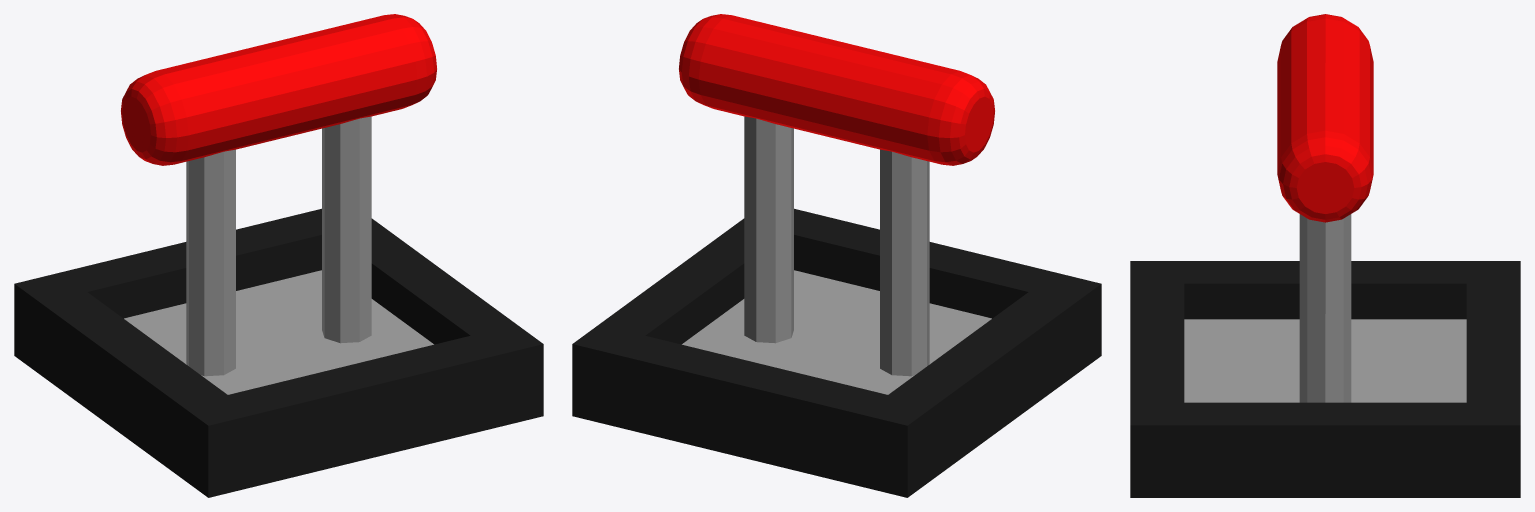
The model's file is bigSwitch.fbx.
3 renders of one model, left to right at view 1: azimuth 30°, elevation 25°; view 2: azimuth 150°, elevation 25°; view 3: azimuth 270°, elevation 25°, orthographic.
Visible parts, largest first — view 1: BaseStation, Cylinder, Handle; view 2: BaseStation, Cylinder, Handle; view 3: BaseStation, Cylinder, Handle.
Boxes of the visible parts, <box> form: BaseStation: <box>14,208,543,497</box>; Cylinder: <box>121,14,436,165</box>; Handle: <box>186,116,371,376</box>; BaseStation: <box>572,208,1101,497</box>; Cylinder: <box>679,14,994,165</box>; Handle: <box>744,116,929,376</box>; BaseStation: <box>1130,261,1520,497</box>; Cylinder: <box>1277,14,1373,222</box>; Handle: <box>1299,214,1351,402</box>.
Size of the model in its own units: 597 by 578 by 599.
